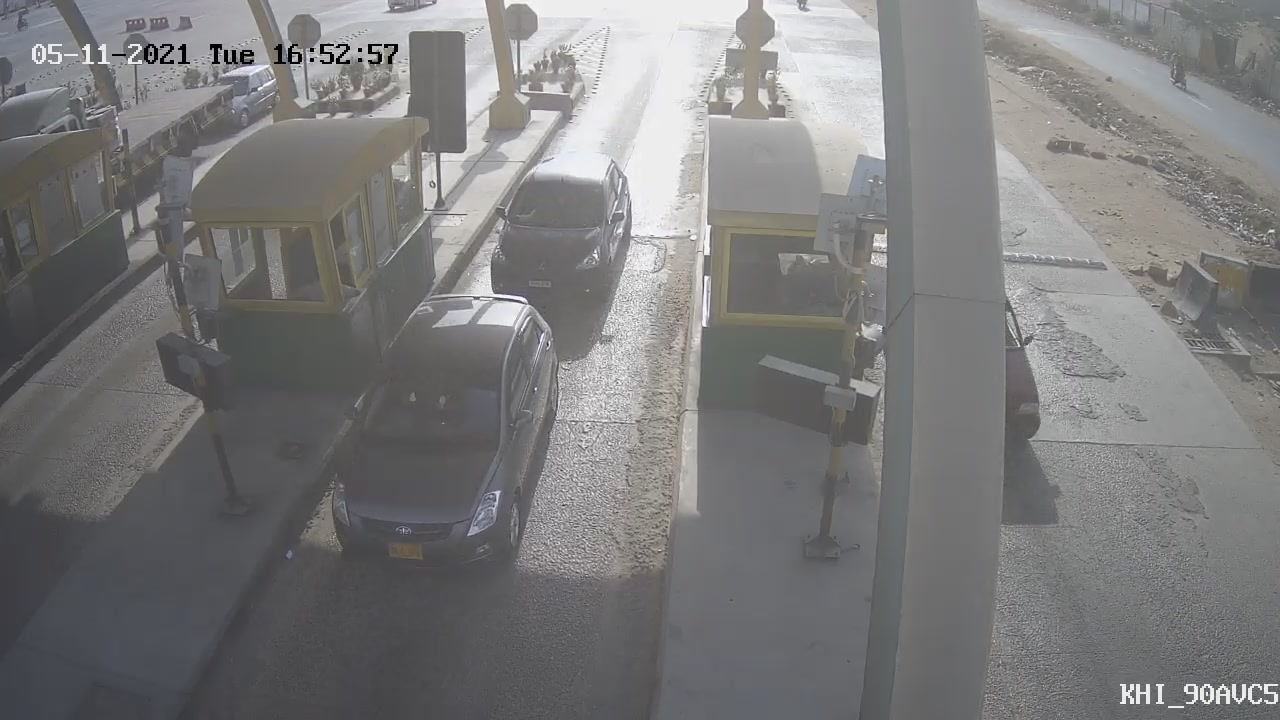F1: (307, 273, 582, 592), (470, 139, 653, 330)
